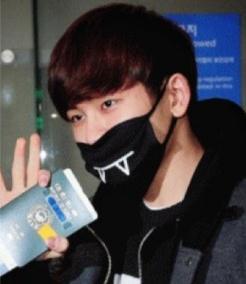face_mask: (66, 53, 159, 183)
